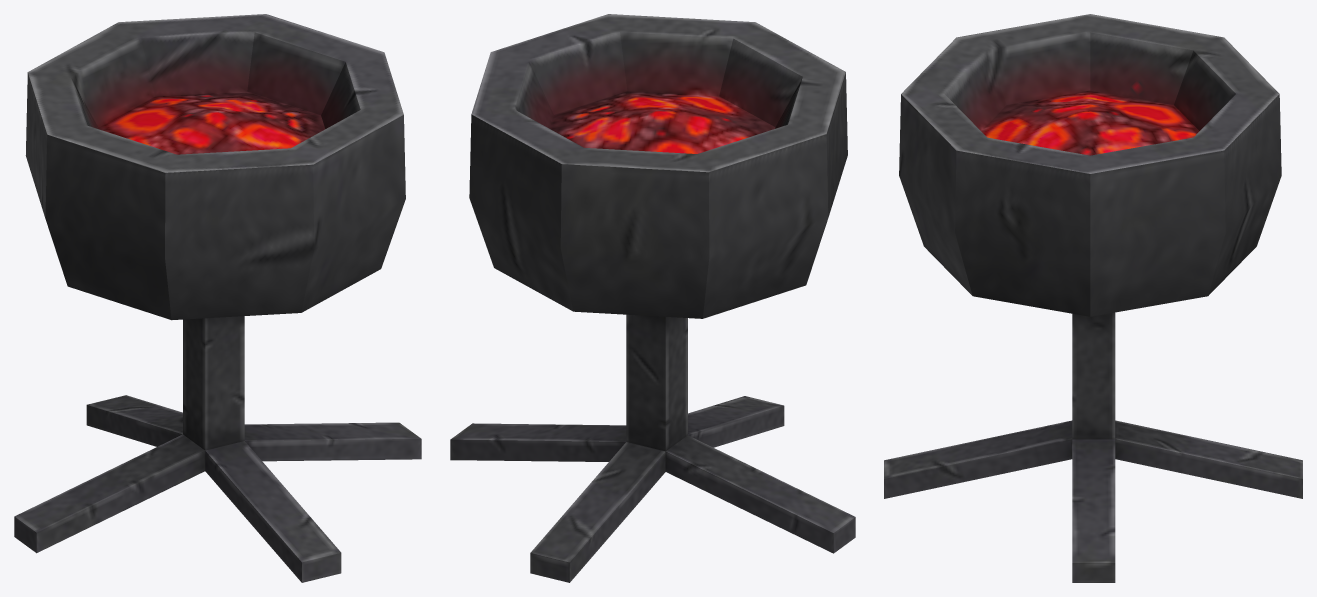
The model's file is modelTorch.fbx.
3 views of the same model, side by side, from view 1: azimuth 30°, elevation 25°; view 2: azimuth 150°, elevation 25°; view 3: azimuth 270°, elevation 25° (orthographic). The views are drawn at different scales.
Visible parts, largest first — view 1: modelTorch; view 2: modelTorch; view 3: modelTorch.
Boxes of the visible parts, bbox=[...] form: modelTorch: bbox=[14, 14, 421, 582]; modelTorch: bbox=[450, 14, 855, 582]; modelTorch: bbox=[884, 14, 1302, 582].
Bounding box in the file's own units: 7.49 × 7.57 × 7.26.
